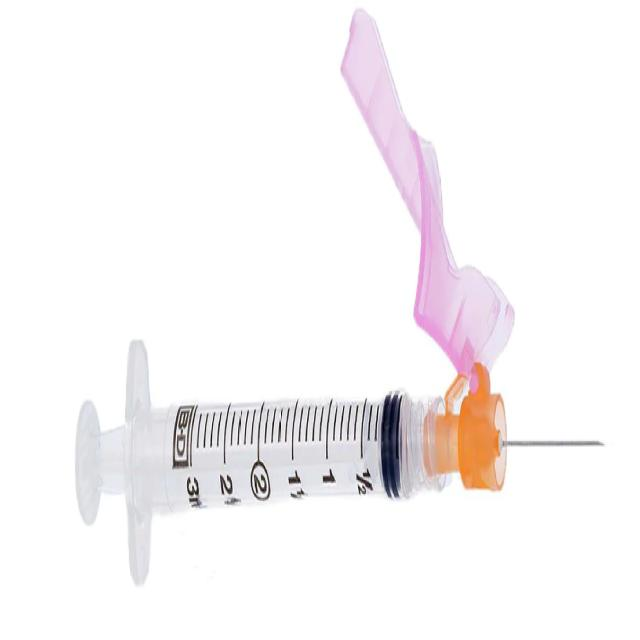syringe: (74, 335, 605, 586)
